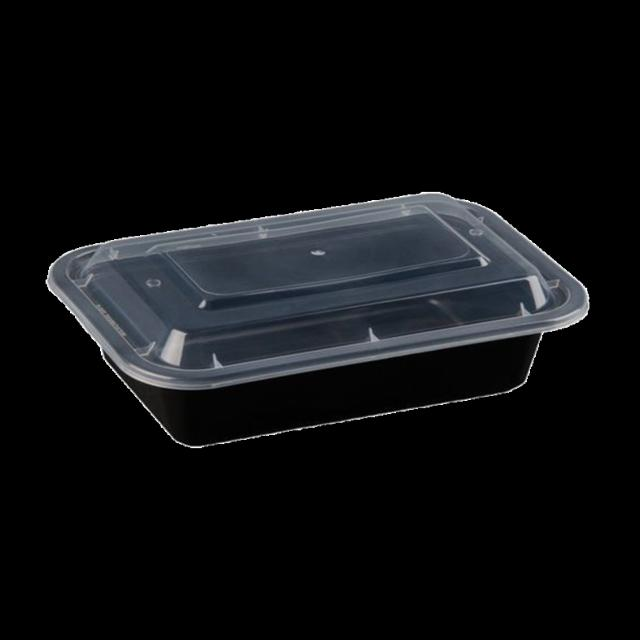plastic_box: (32, 148, 606, 478)
